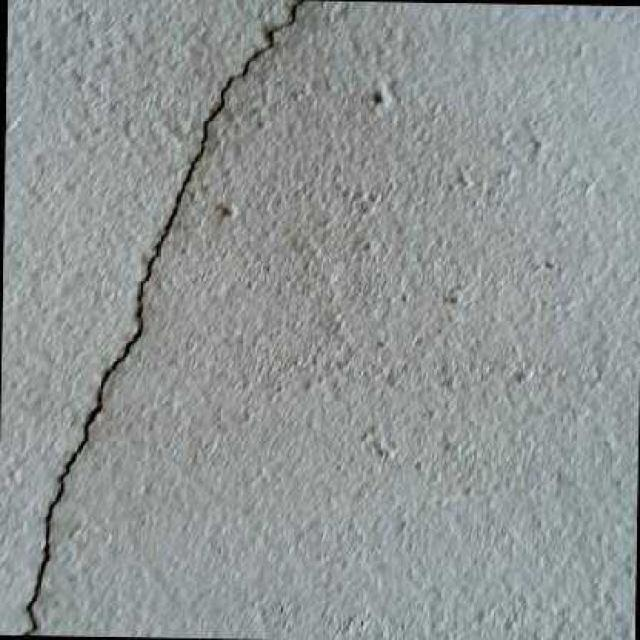D00: (22, 0, 304, 635)
